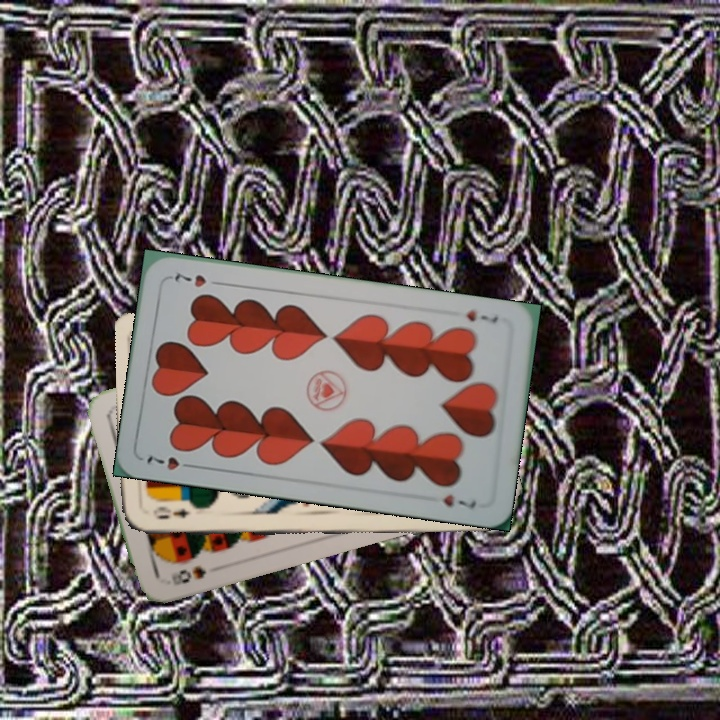EO: (149, 503, 191, 521)
H7: (142, 452, 199, 473), (462, 306, 501, 327)
S8: (167, 562, 209, 588)
